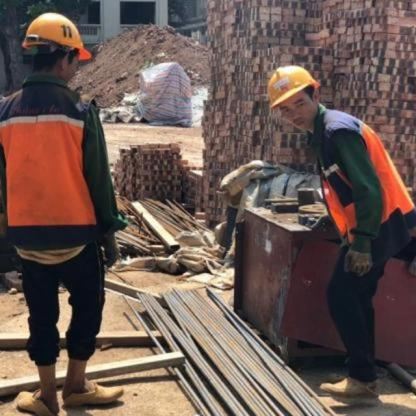bota: (320, 365, 381, 400)
capacete: (20, 12, 92, 88), (268, 64, 323, 136)
